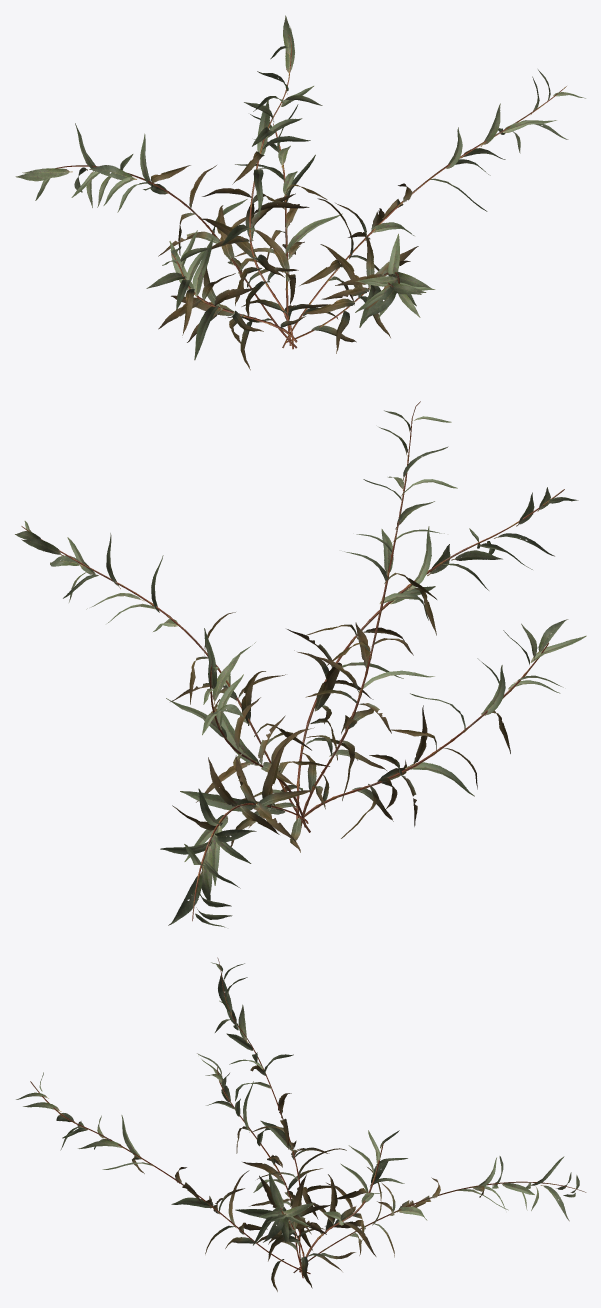
3 renders of one model, top to bottom at view 1: azimuth 30°, elevation 25°; view 2: azimuth 150°, elevation 25°; view 3: azimuth 270°, elevation 25°, orthographic. The views are drawn at different scales.
Visible parts, largest first — view 1: shrub_02__c_lod0; view 2: shrub_02__c_lod0; view 3: shrub_02__c_lod0.
Boxes of the visible parts, left/top/right/bottom form: shrub_02__c_lod0: left=15, top=15, right=585, bottom=370; shrub_02__c_lod0: left=15, top=401, right=586, bottom=927; shrub_02__c_lod0: left=16, top=957, right=586, bottom=1291.
Size of the model in its own units: 1.78 by 1.34 by 2.32.
Materials: 1 (1 with a texture image).
